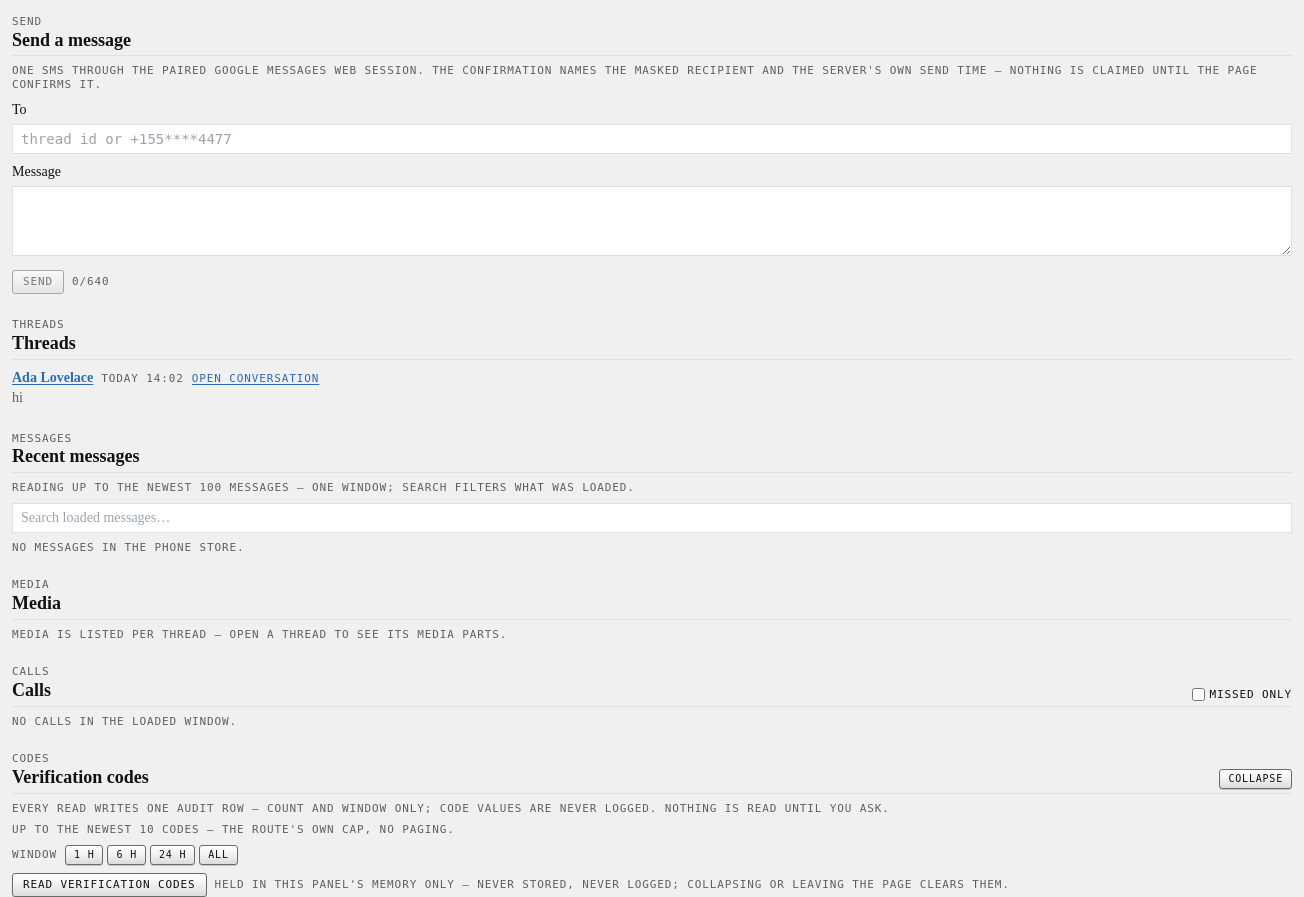
codes panel — masking, reveal, copy › Copy writes the FULL code while masked and re-masks immediately
(page scrolled)
Step 1. Click the button with test id "phone-codes-read" → x=109, y=885, box [12,873,207,896]
(page scrolled)
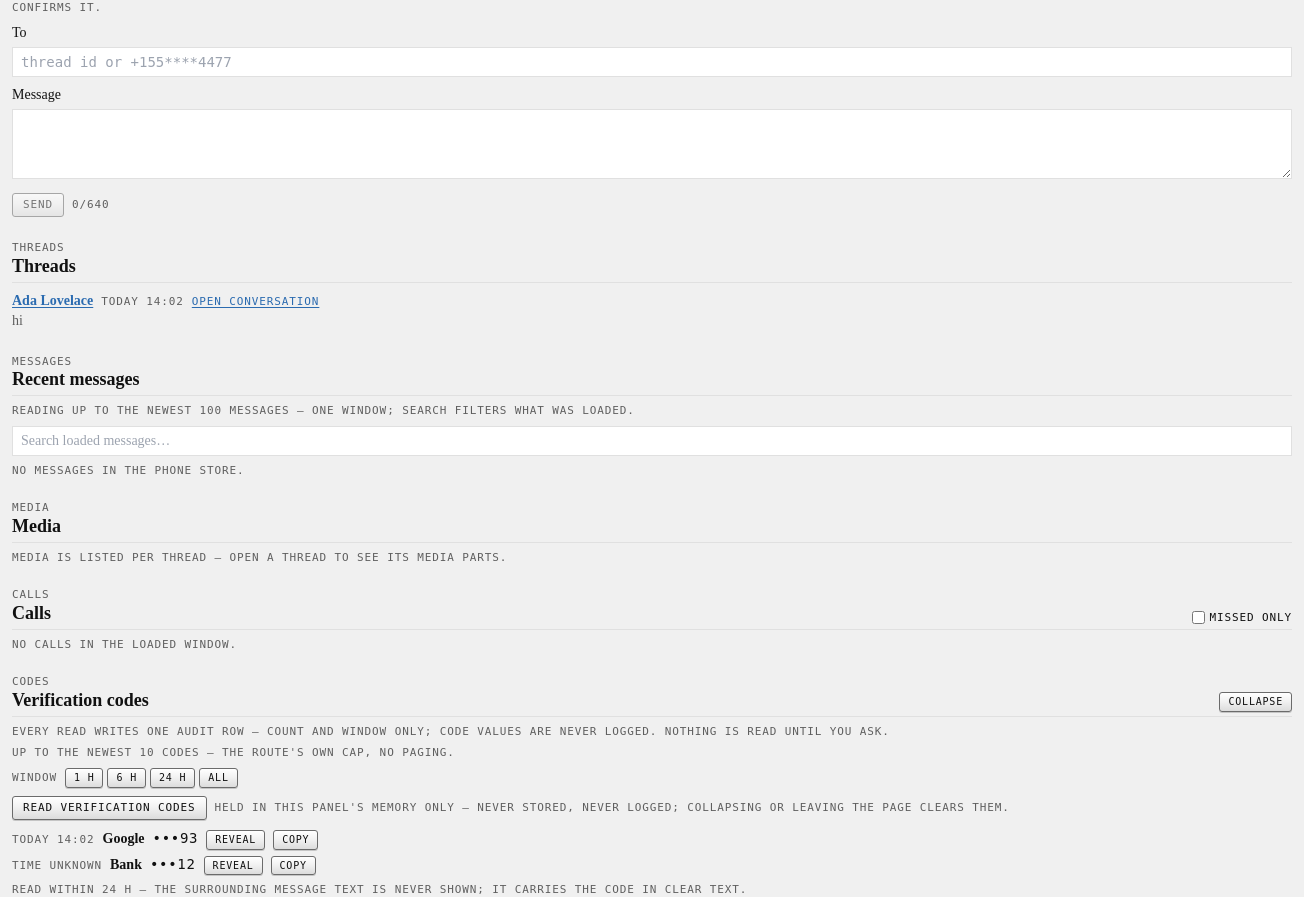
Step 2. Click the button with test id "phone-code-reveal" next to "•••93" → x=236, y=840, box [206,830,265,850]
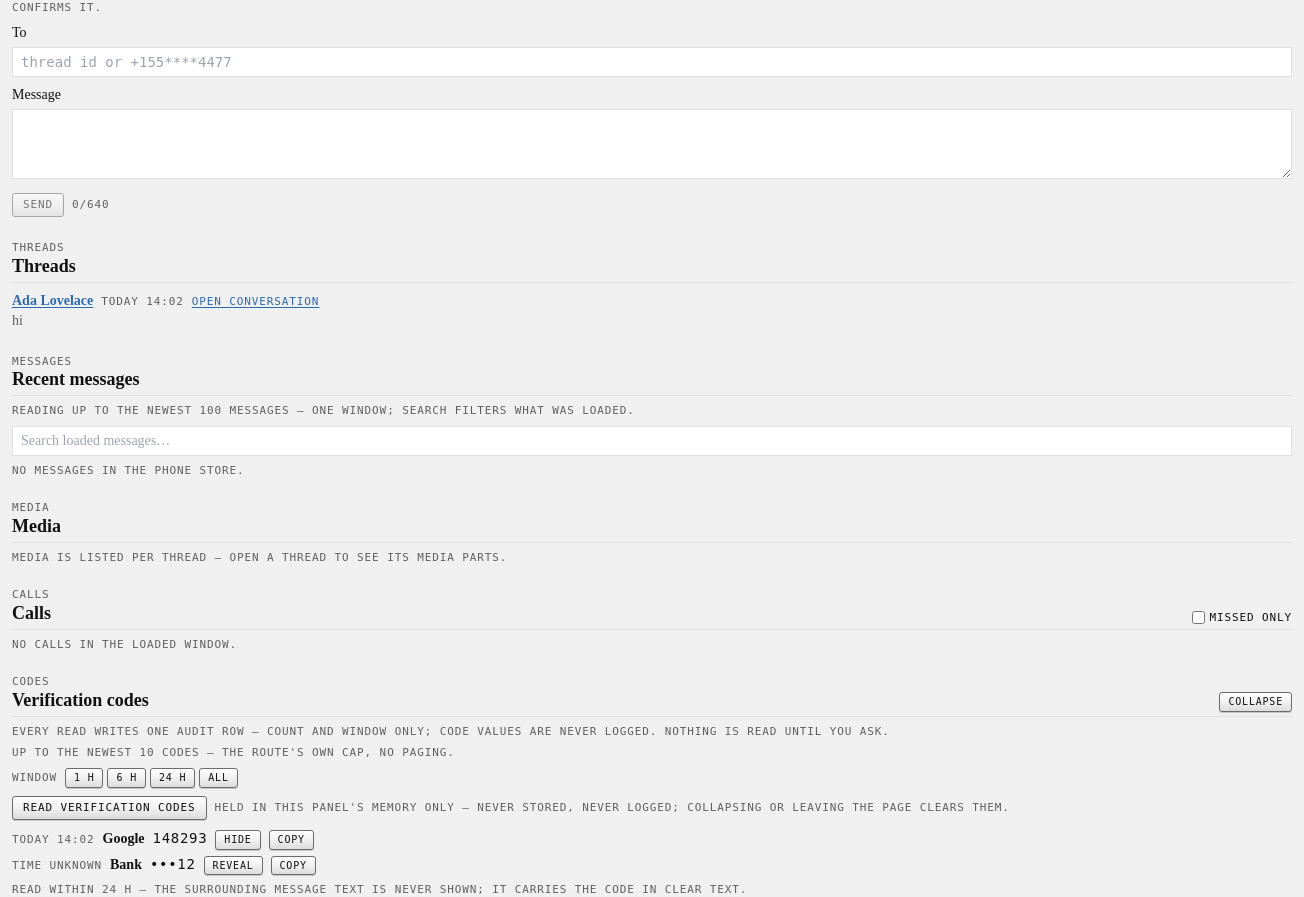
Step 3. Click the button with test id "phone-code-copy" in the row of "148293" → x=291, y=840, box [269,830,314,850]
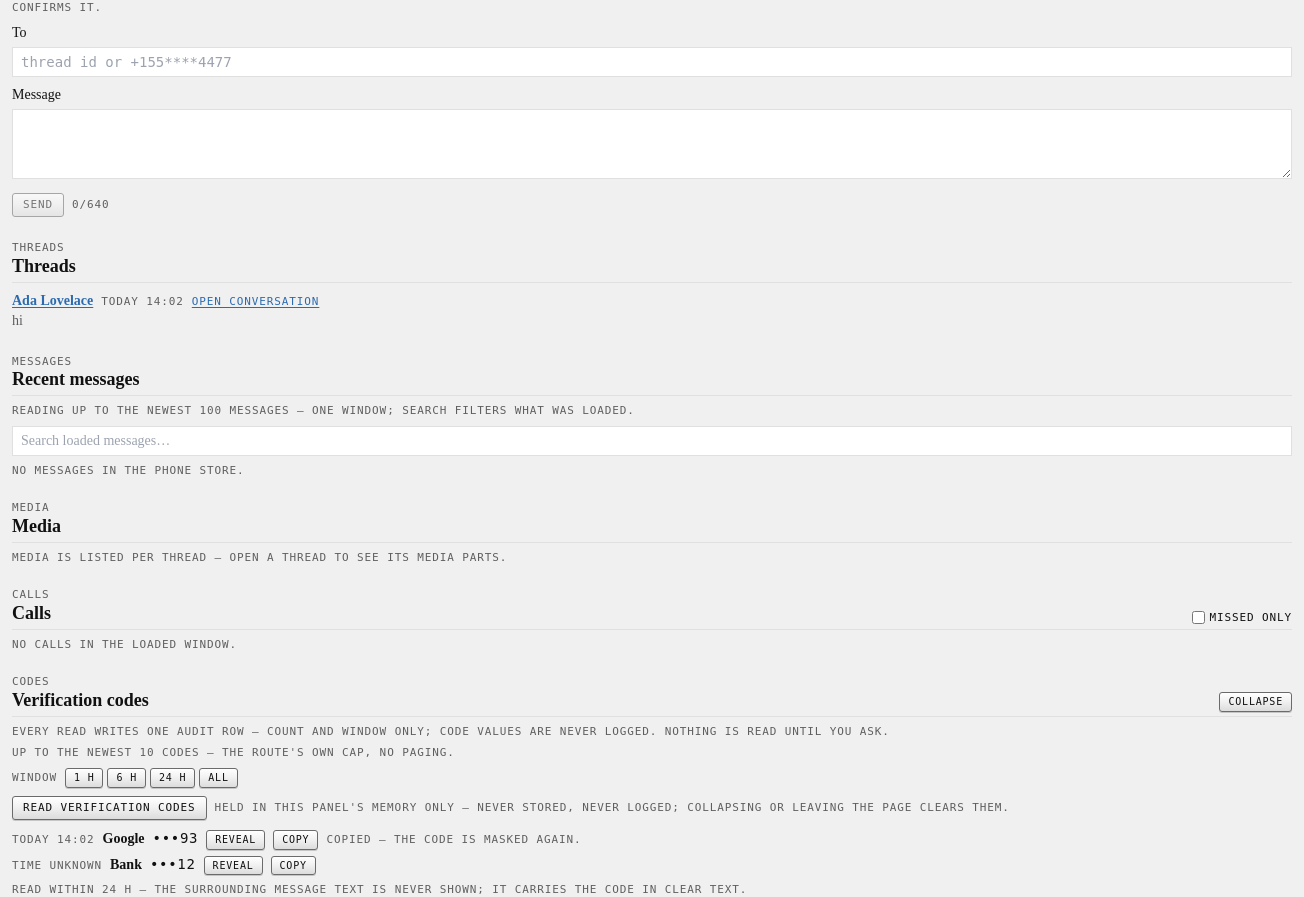
Check: the text with test id "phone-code-value" reads "•••93", box [152,830,198,846]
Check: the message with test id "phone-code-copied" shows "masked again", box [326,833,582,846]
